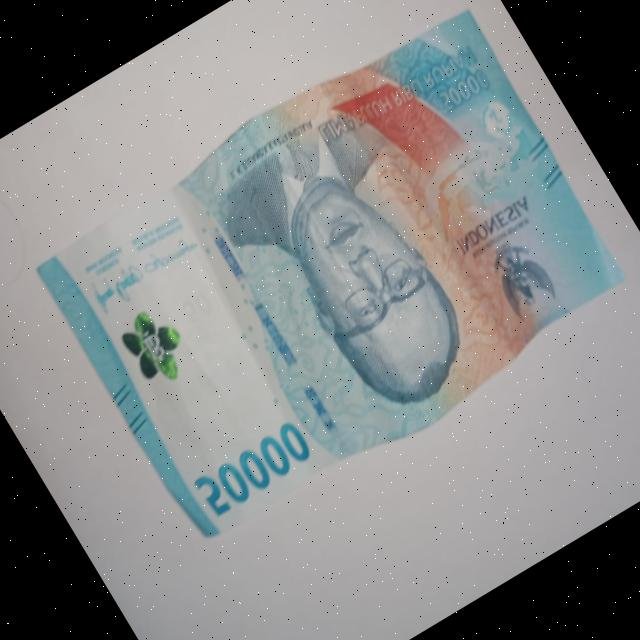50K: (33, 0, 640, 555)
